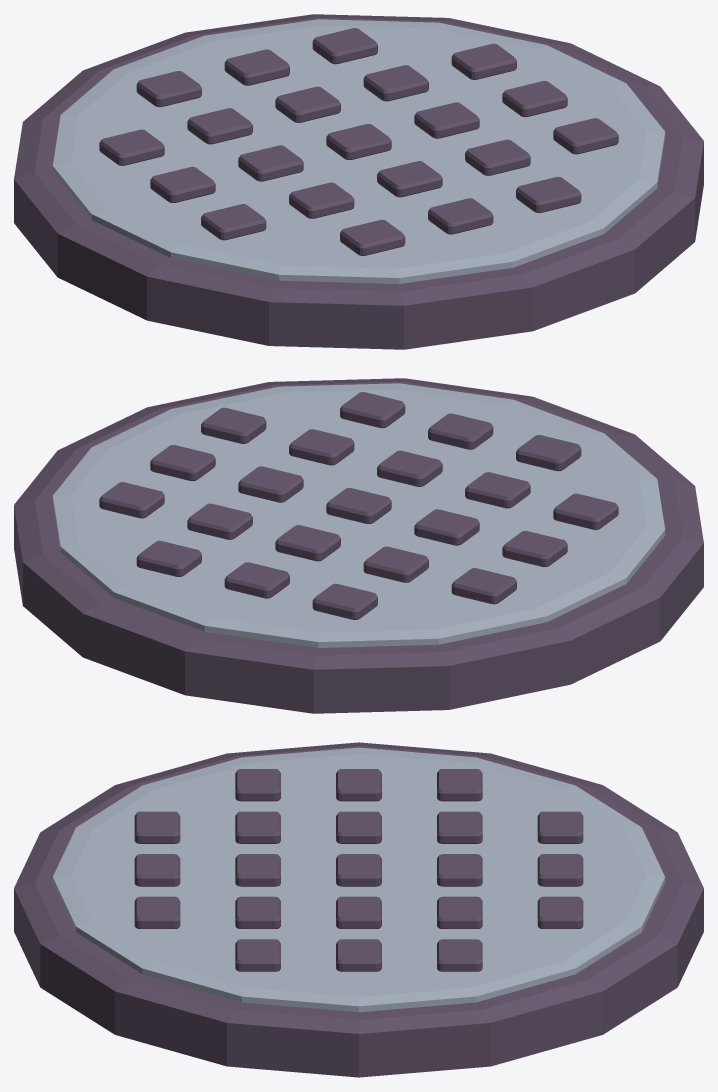
Rendered from sewer_cover.glb.
The picture shows the model from 3 angles, top to bottom: view 1: azimuth 30°, elevation 25°; view 2: azimuth 150°, elevation 25°; view 3: azimuth 270°, elevation 25°; orthographic projection.
Parts seen in each view (by area): view 1: model; view 2: model; view 3: model.
Part boxes in pixels (x1=…): model: x1=14, y1=14, x2=703, y2=349; model: x1=14, y1=378, x2=703, y2=713; model: x1=14, y1=742, x2=703, y2=1077.
Bounding box in the file's own units: 0.7 × 0.08 × 0.7.
